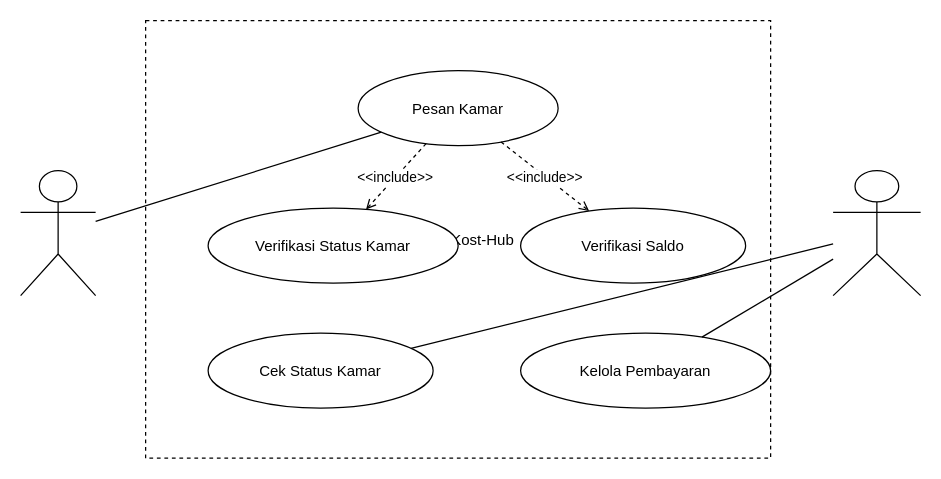
This 941x479 diagram has some shape labels left out. Each missing label, with the centre of its shape:
"Bapak Kos" goes at (x=876, y=232).
"Penyewa" goes at (x=57, y=232).
